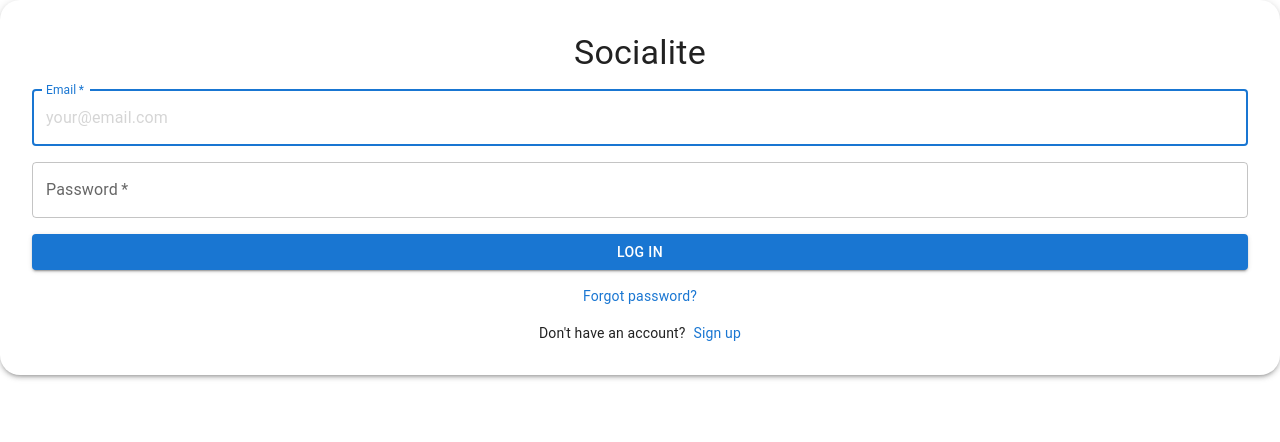
it: LoginPage › LoginPane › shows validation errors when fields empty
The image size is (1280, 442).
Click the button "Log In". click: (640, 252)
box: top-left (32, 234), bottom-right (1248, 270)
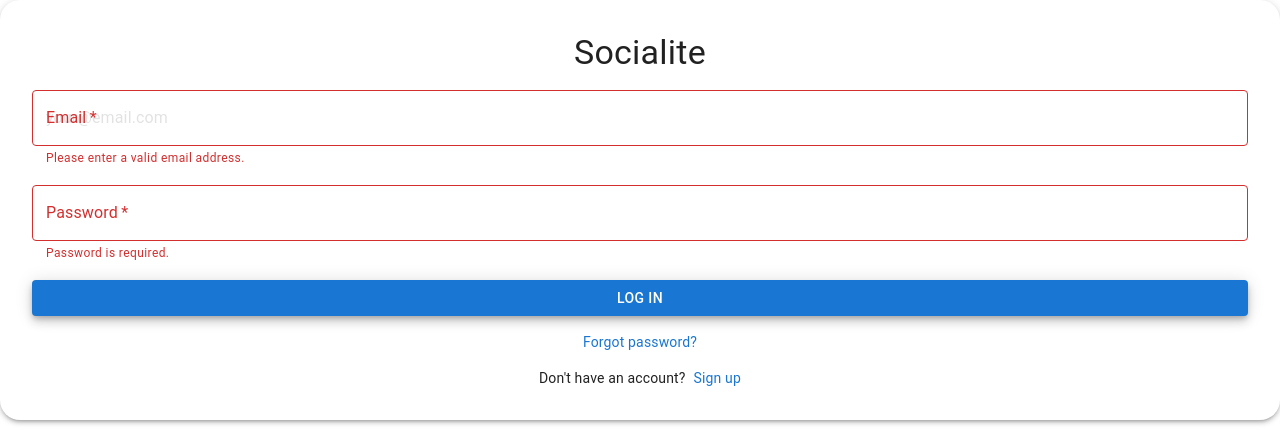
Check: the text "Please enter a valid email address." is shown, box top-left (46, 151), bottom-right (245, 165)
Check: the text "Password is required." is shown, box top-left (46, 246), bottom-right (169, 260)
